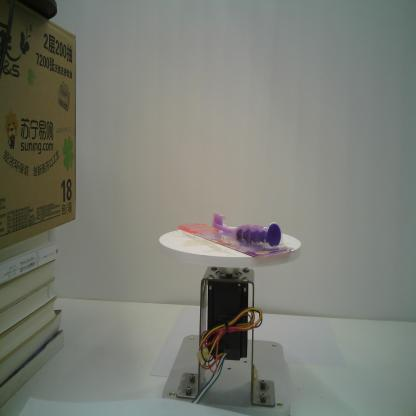Personal Hygiene: (178, 210, 295, 258)
